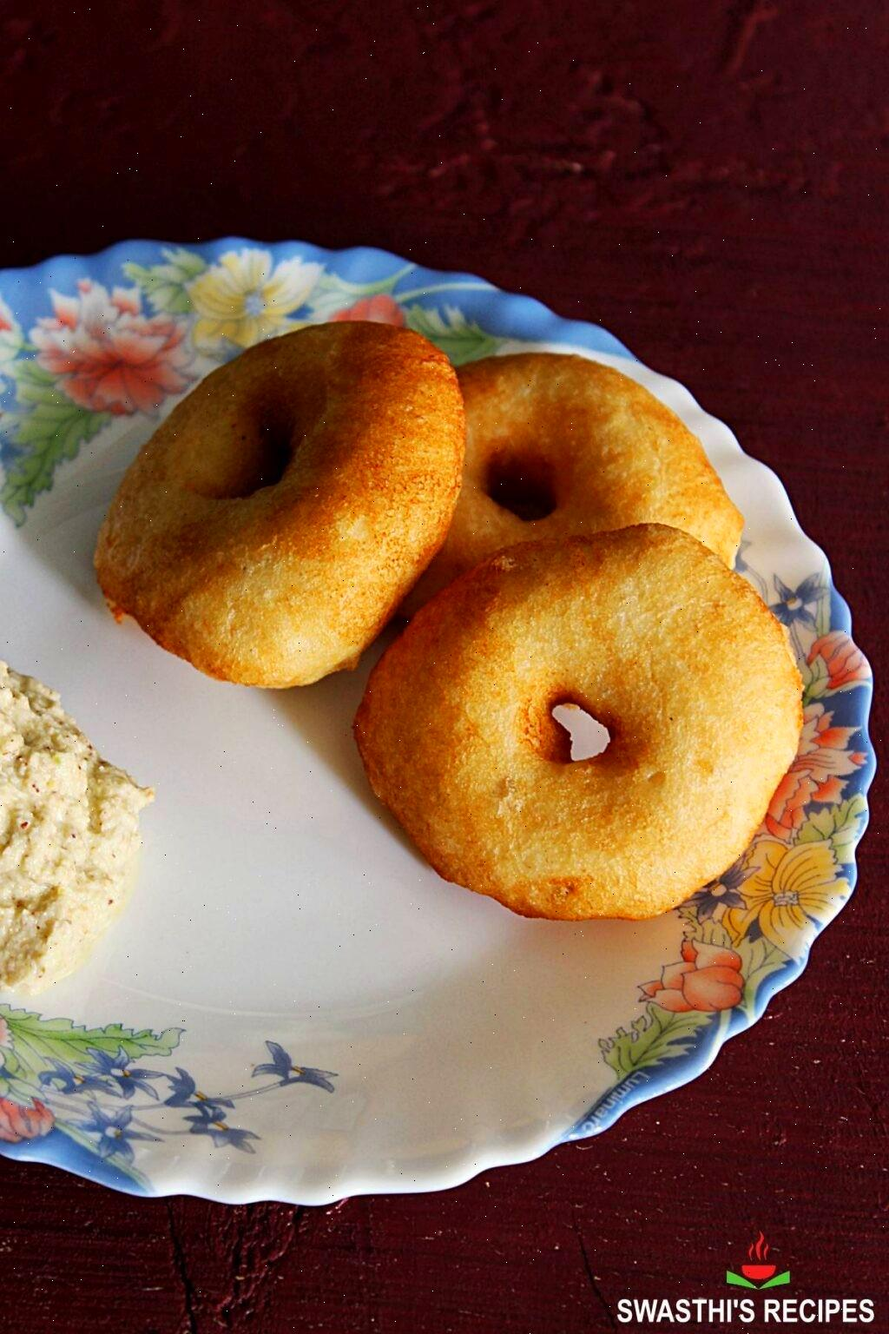medu vada: (87, 303, 810, 923)
